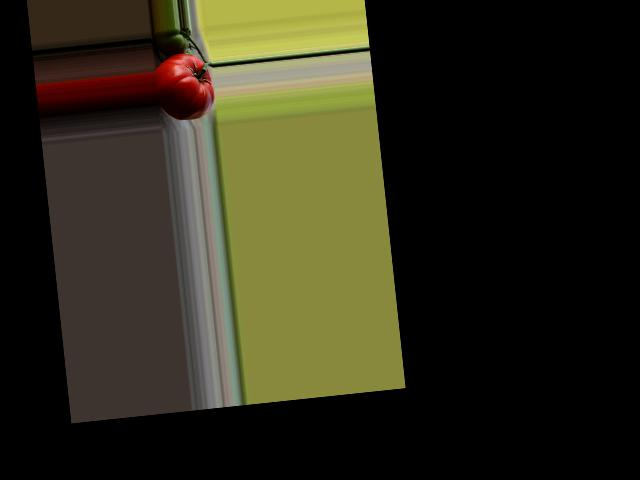tomato: (152, 51, 216, 123)
